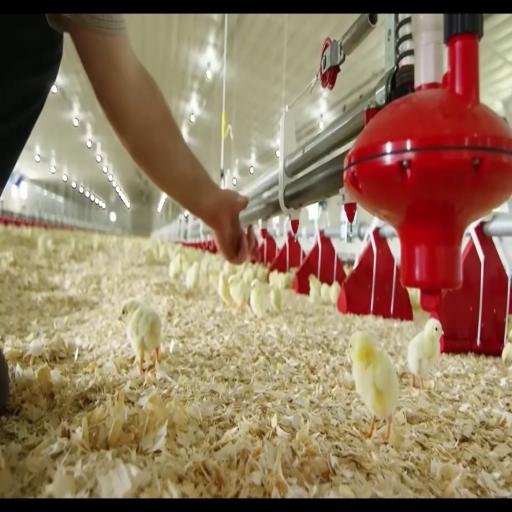chick: (350, 332, 399, 440), (119, 299, 161, 374), (407, 318, 443, 388), (228, 275, 250, 310), (250, 280, 268, 320), (185, 262, 200, 295), (218, 271, 231, 306), (309, 275, 321, 304), (169, 253, 182, 279), (269, 271, 286, 290), (270, 286, 282, 311), (329, 280, 341, 305), (208, 268, 220, 290), (256, 264, 269, 282), (502, 339, 511, 365), (243, 267, 255, 286), (285, 269, 296, 288), (321, 284, 330, 303), (276, 273, 286, 290), (223, 262, 234, 277), (268, 271, 278, 286)
